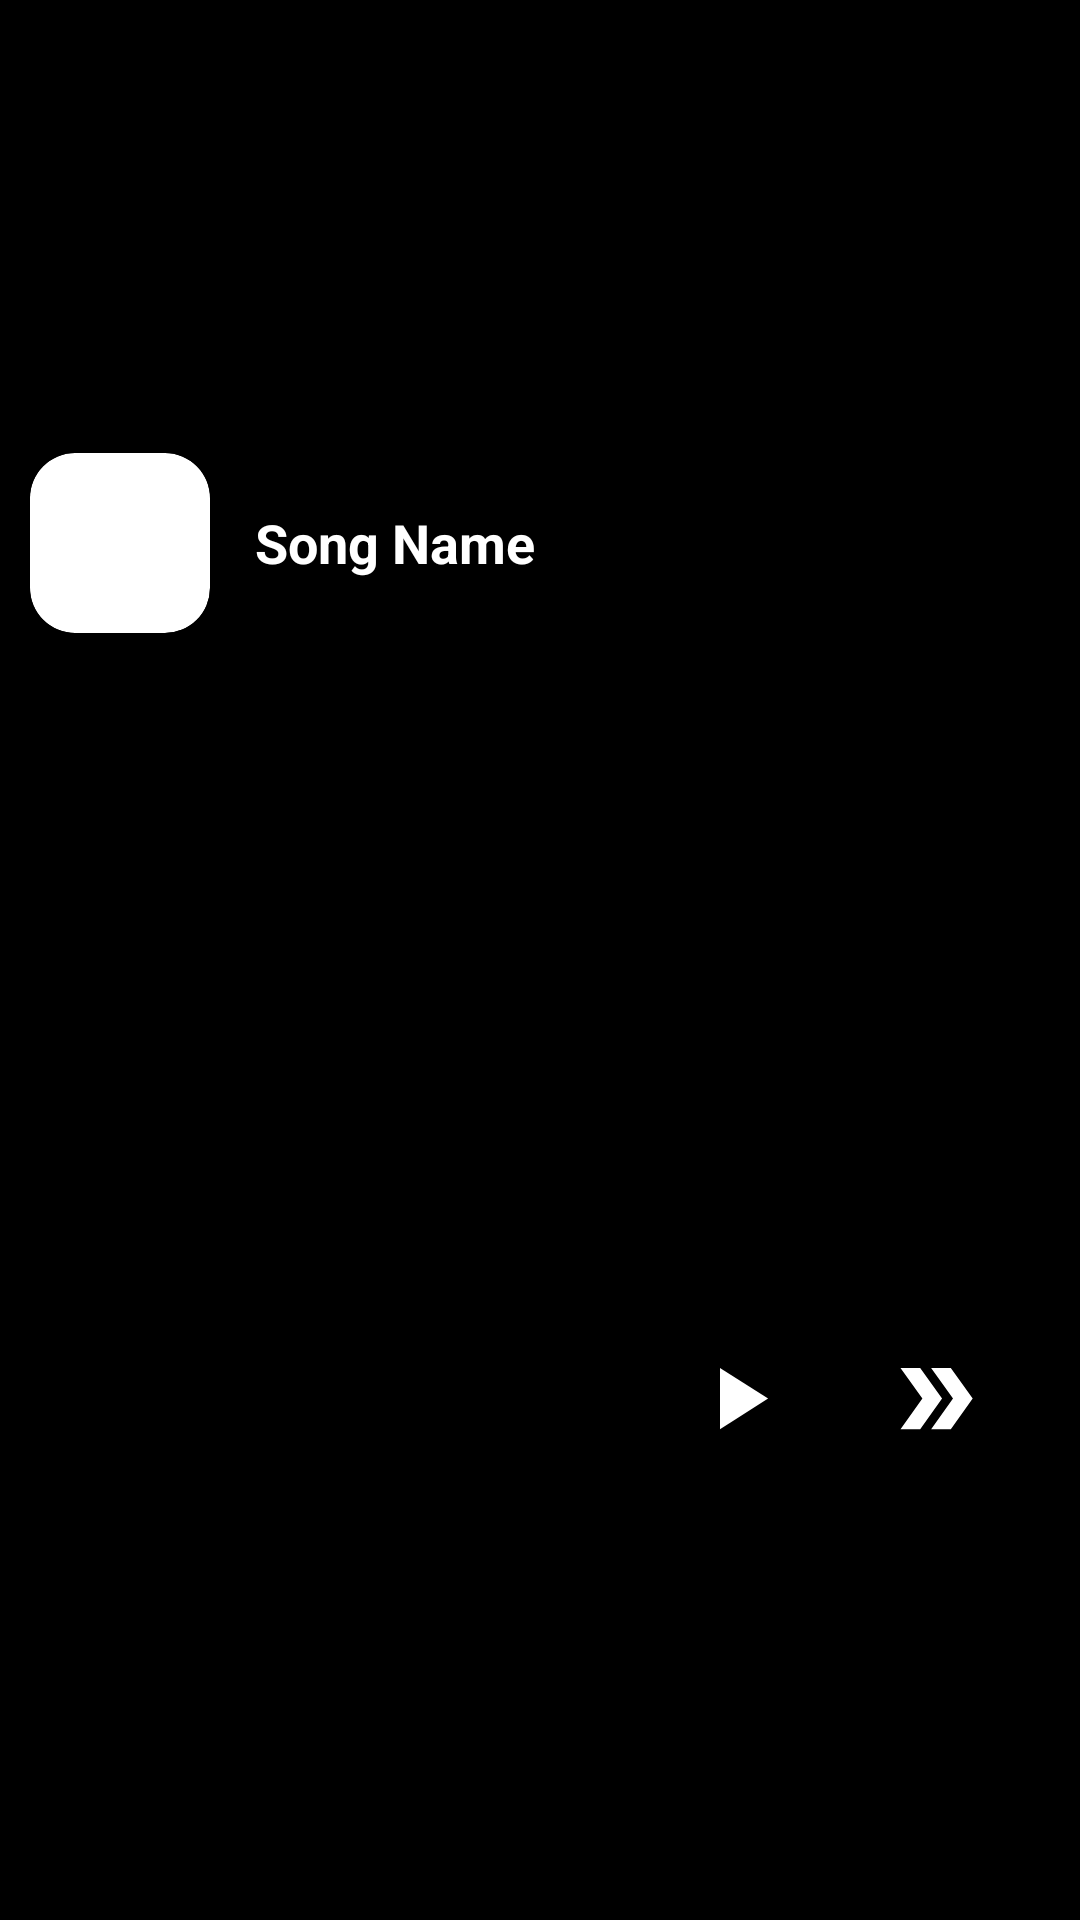

Point at icon controls on the screen. Image size 1080px x 1920px, points as (x=x, y=y).
double arrow: (x=936, y=1399)
play: (x=744, y=1398)
